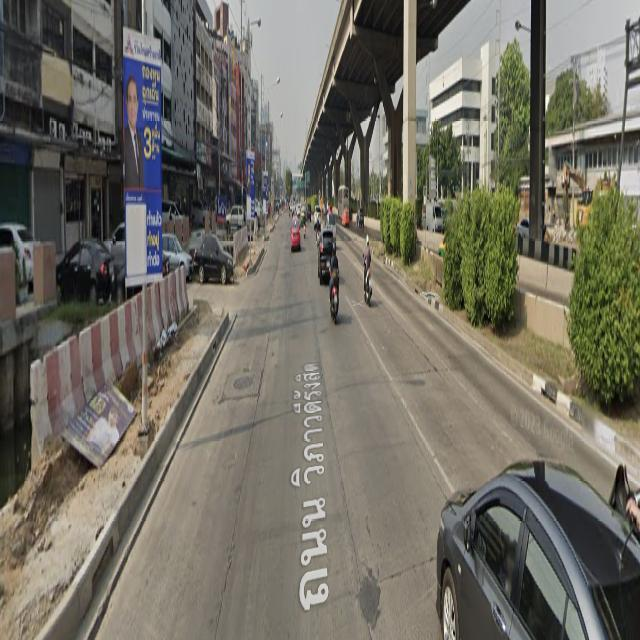fallen_object: (12, 327, 116, 453), (97, 279, 172, 379), (143, 255, 208, 347)
